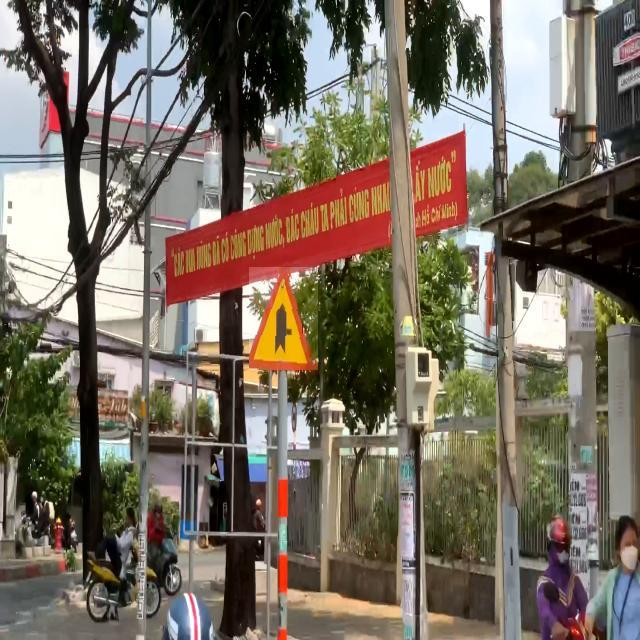W-207b: (249, 267, 318, 370)
